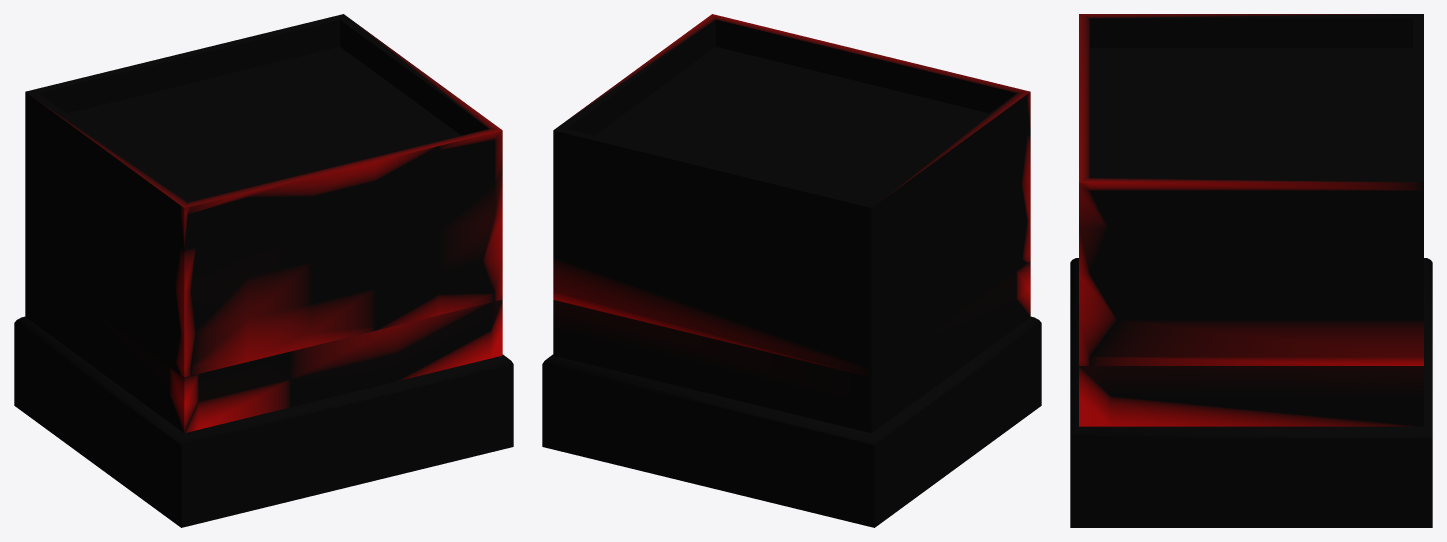
The model's file is House10.fbx.
3 renders of one model, left to right at view 1: azimuth 30°, elevation 25°; view 2: azimuth 150°, elevation 25°; view 3: azimuth 270°, elevation 25°, orthographic. The views are drawn at different scales.
Parts seen in each view (by area): view 1: House10; view 2: House10; view 3: House10.
Part boxes in pixels (x1,y1,x2,y2): House10: [14, 14, 513, 527]; House10: [542, 14, 1041, 527]; House10: [1070, 14, 1432, 527].
Bounding box in the file's own units: 965 × 875 × 840.
